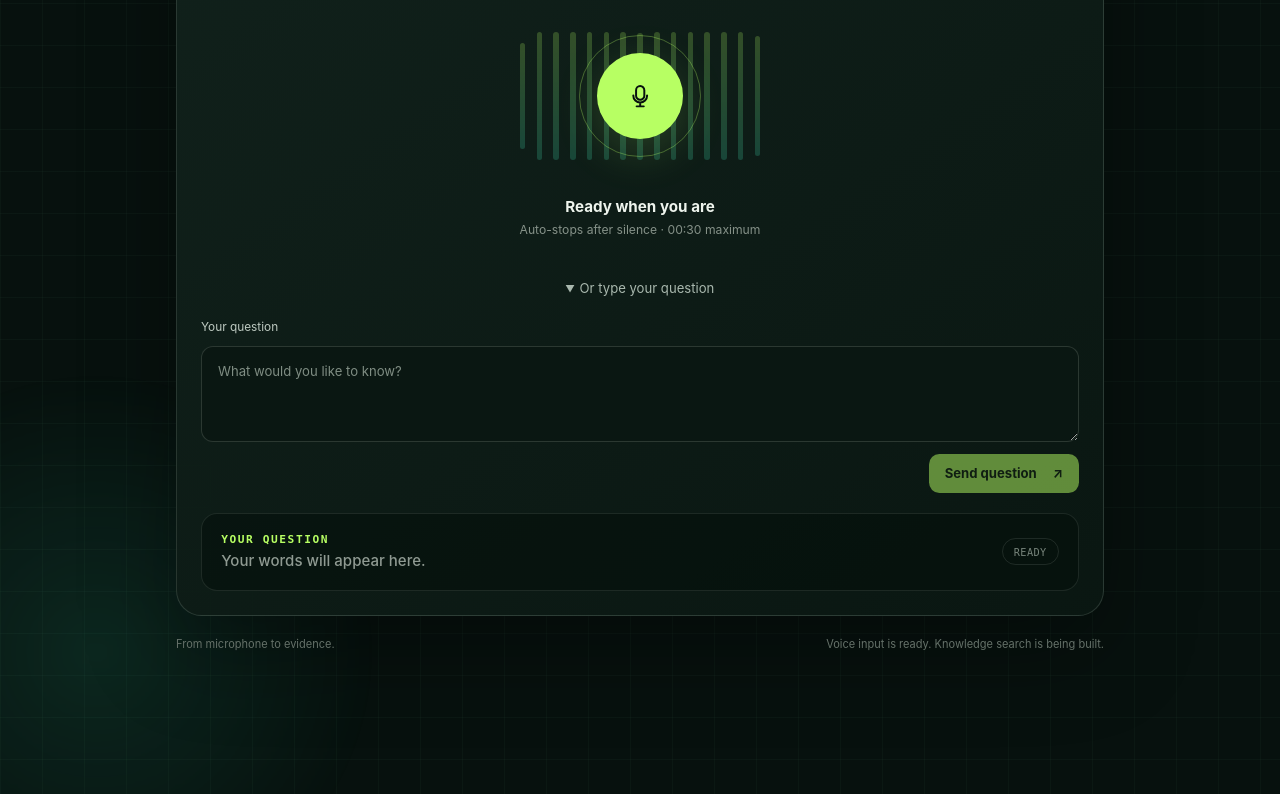
Test: question flow › sends typed questions without microphone permission or paid transcription
(page scrolled)
Type "  Why does it rain?  " into the text box labelled "Your question". click: {"x": 640, "y": 394}
box: [201,346,1079,442]
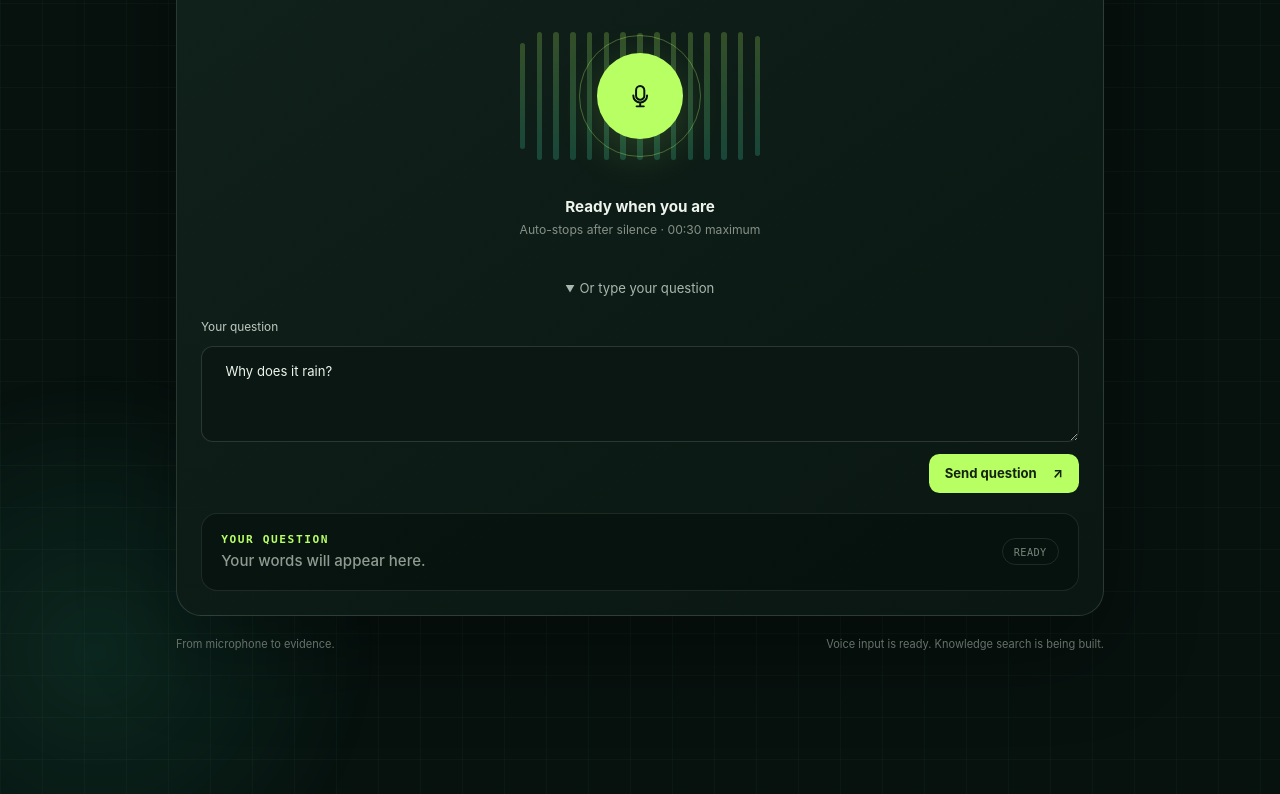
Click the button "Send question ↗". click: {"x": 1004, "y": 473}
box: [929,454,1079,493]
(page scrolled)
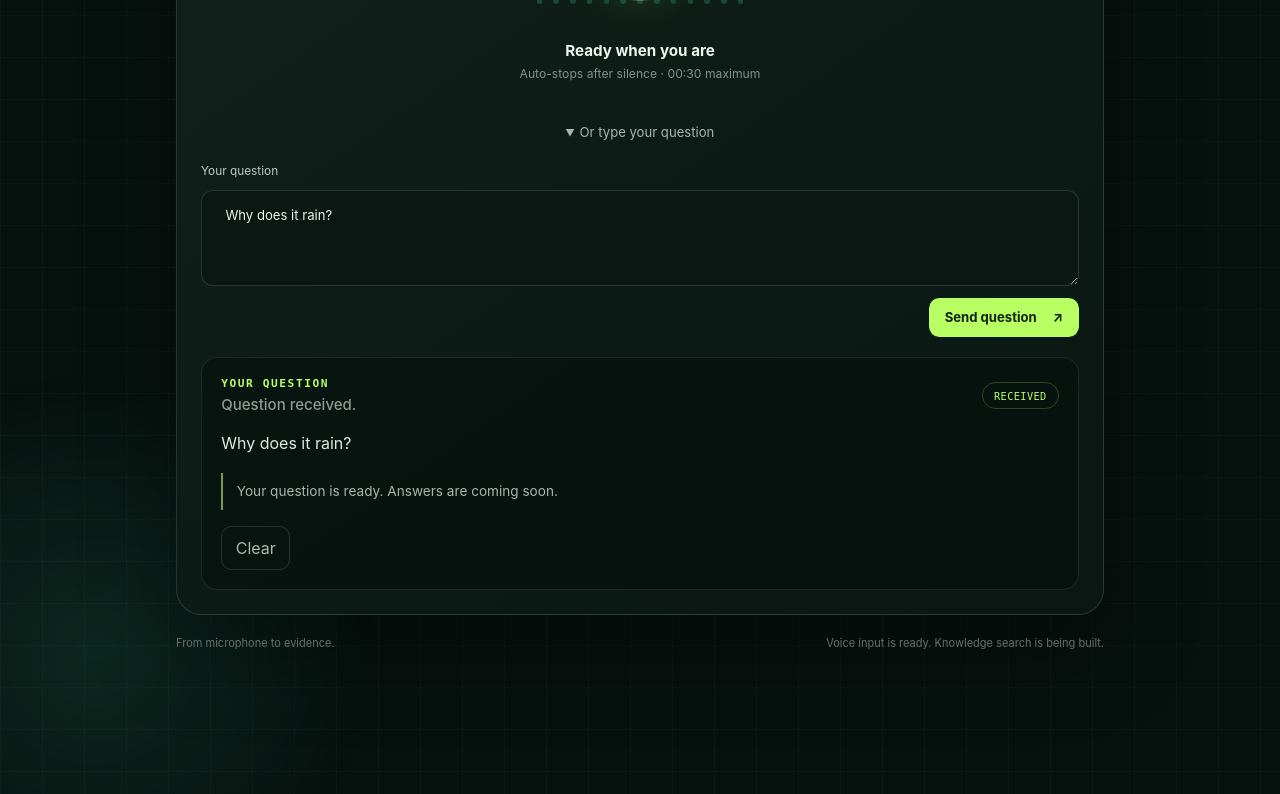
Now the heading "Question received." is shown, box [221,395,356,414]
